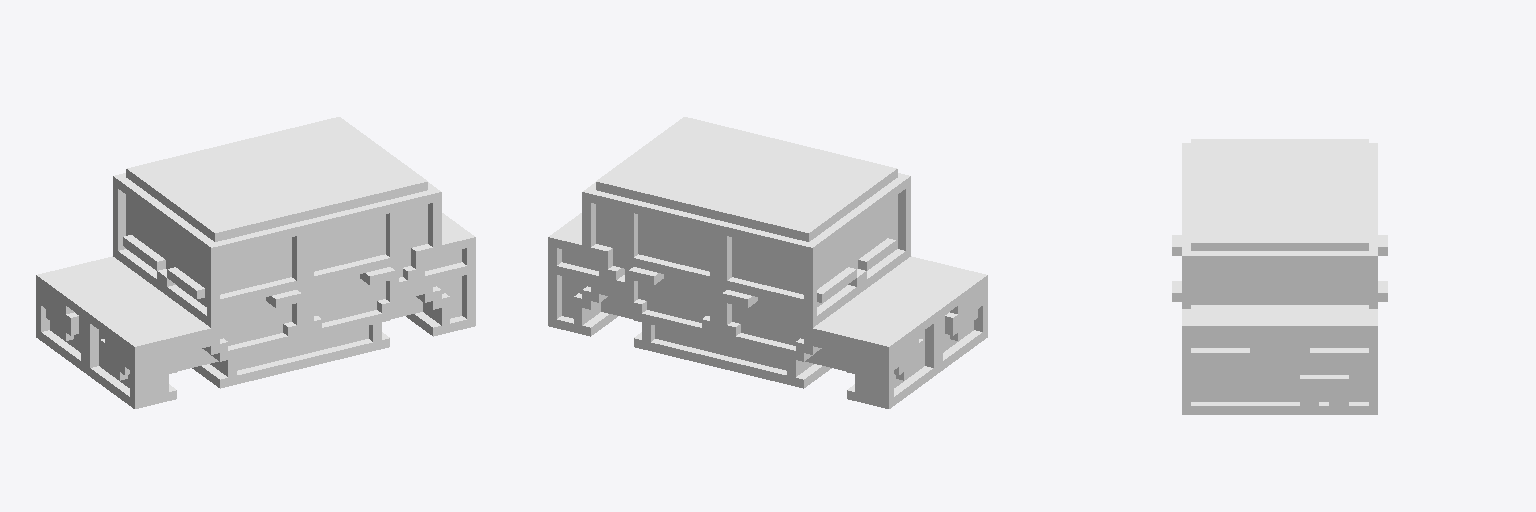
File: Car1-1.obj
3 renders of one model, left to right at view 1: azimuth 30°, elevation 25°; view 2: azimuth 150°, elevation 25°; view 3: azimuth 270°, elevation 25°, orthographic.
Parts seen in each view (by area): view 1: object 1; view 2: object 1; view 3: object 1.
Part boxes in pixels (x1,y1,x2,y2): object 1: (36,117,475,408); object 1: (548,117,987,408); object 1: (1172,139,1387,414).
Size of the model in its own units: 4 by 1.7 by 2.2.